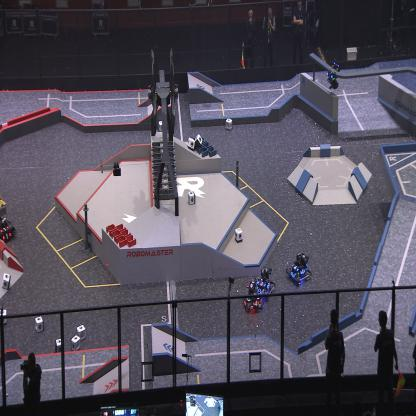car: (288, 252, 312, 285), (0, 198, 17, 243), (242, 278, 264, 312), (255, 266, 275, 302)
